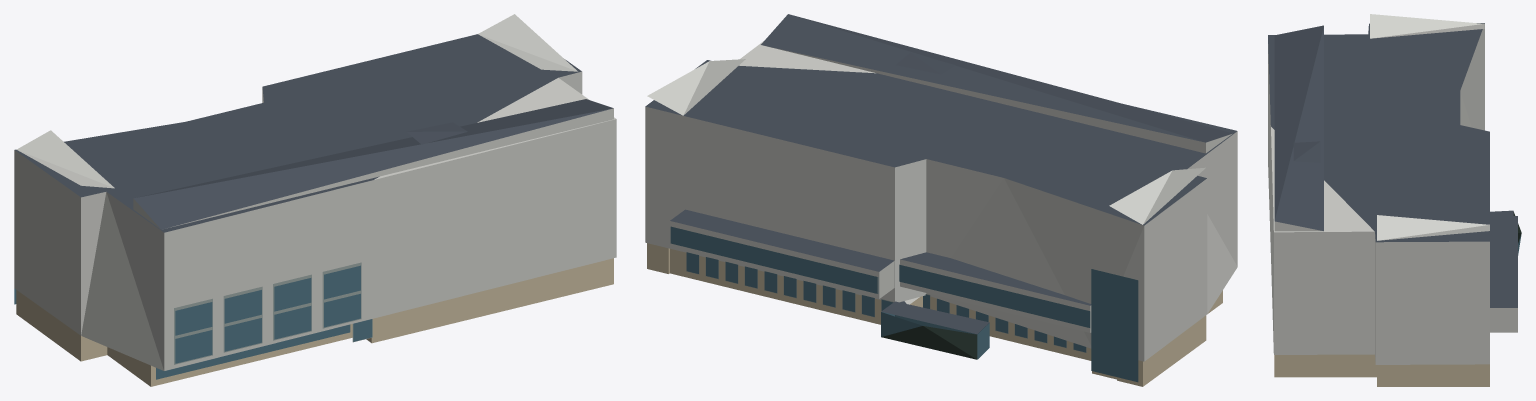
The model's file is social-history.lod2.glb.
The picture shows the model from 3 angles, left to right: view 1: azimuth 30°, elevation 25°; view 2: azimuth 150°, elevation 25°; view 3: azimuth 270°, elevation 25°; orthographic projection. The views are drawn at different scales.
Parts seen in each view (by area): view 1: lod2; view 2: lod2; view 3: lod2.
Part boxes in pixels (<box>): lod2: <box>14,14,616,386</box>; lod2: <box>645,14,1237,386</box>; lod2: <box>1268,14,1521,386</box>.
Bounding box in the file's own units: 76.53 × 25.65 × 37.71.
